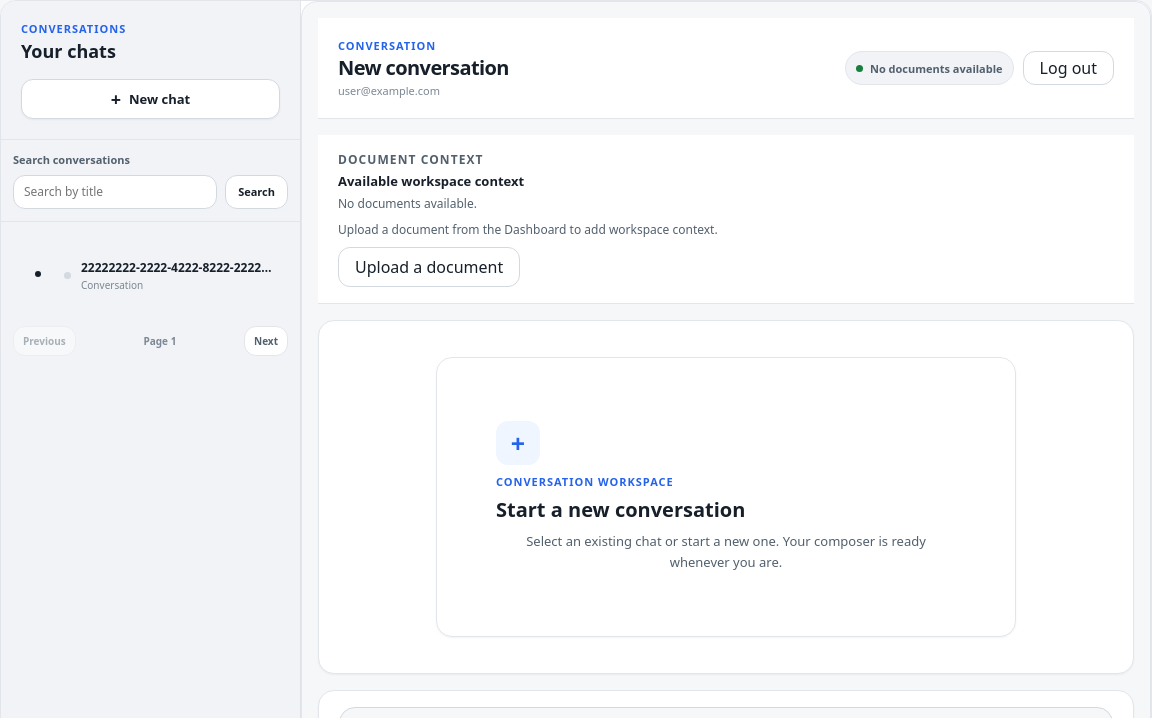
Test: ChatPage › renders an empty history
Click the button "22222222-2222-4222-8222-222222222222" at {"x": 170, "y": 276}, box [53,250,288,302]
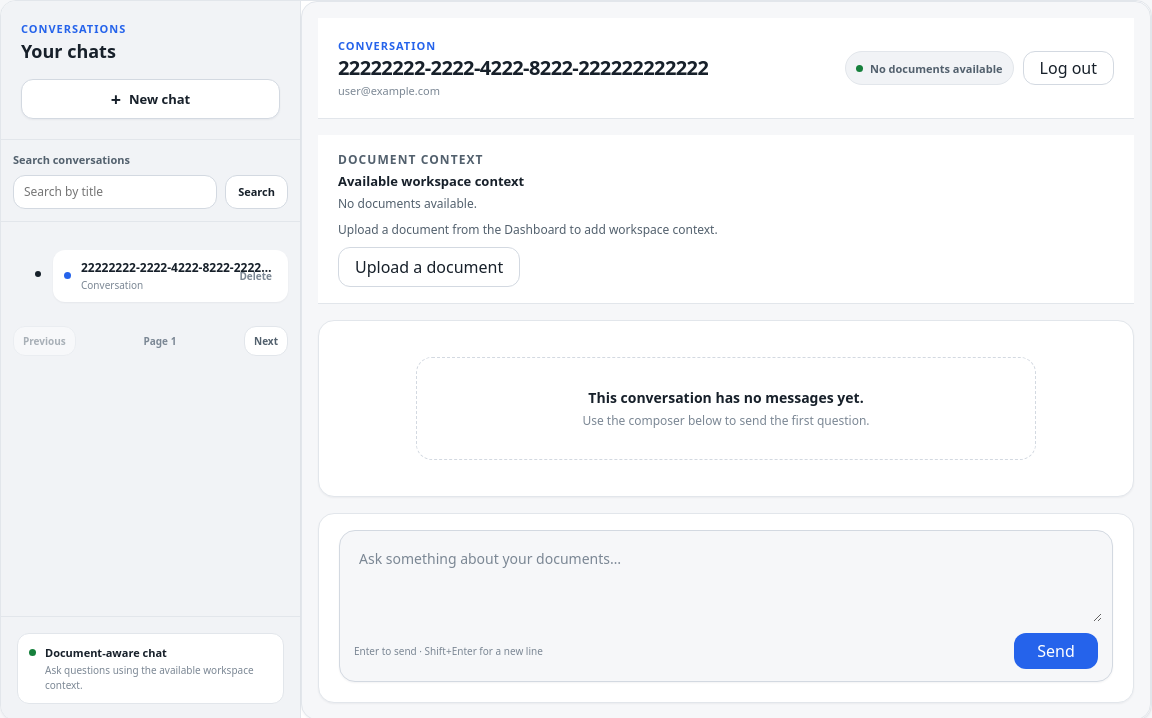
Result: the text "This conversation has no messages yet." is shown at [588,388,864,407]
